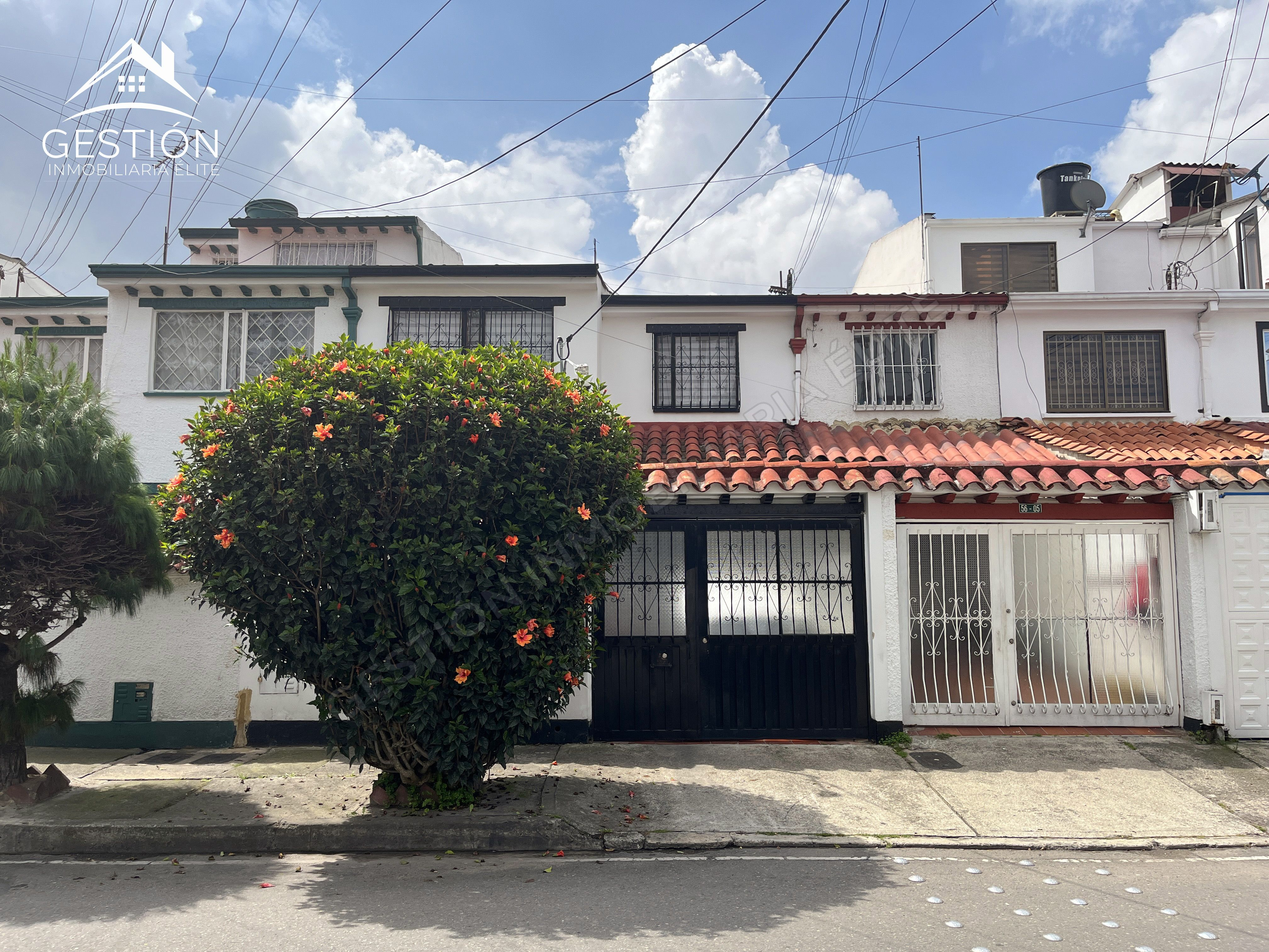House: (603, 303, 1264, 724)
